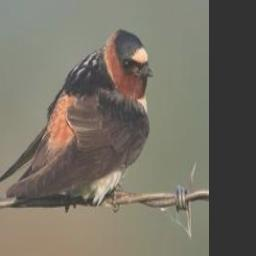Swallow: (0, 25, 154, 212)
